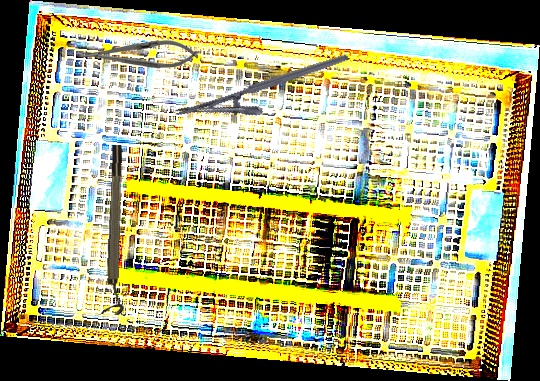Fixation Ring: (100, 144, 133, 316)
Needle Holder: (173, 52, 357, 141), (80, 39, 198, 69)
